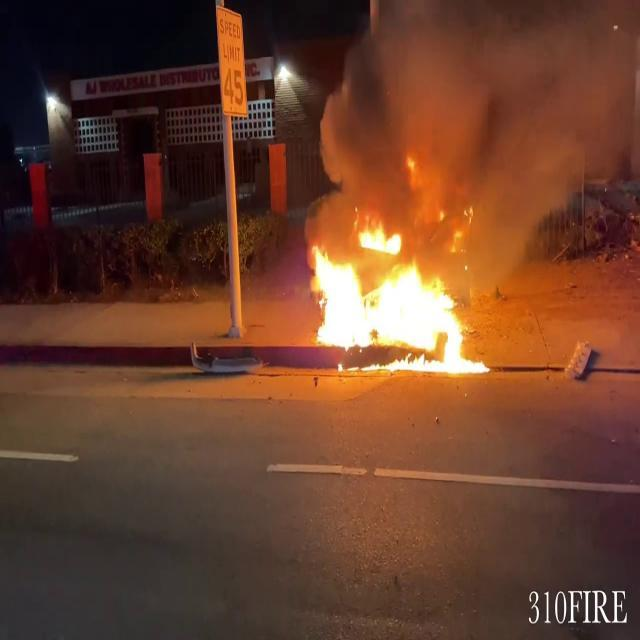Fire: (297, 218, 493, 376)
Smoke: (308, 0, 640, 245)
